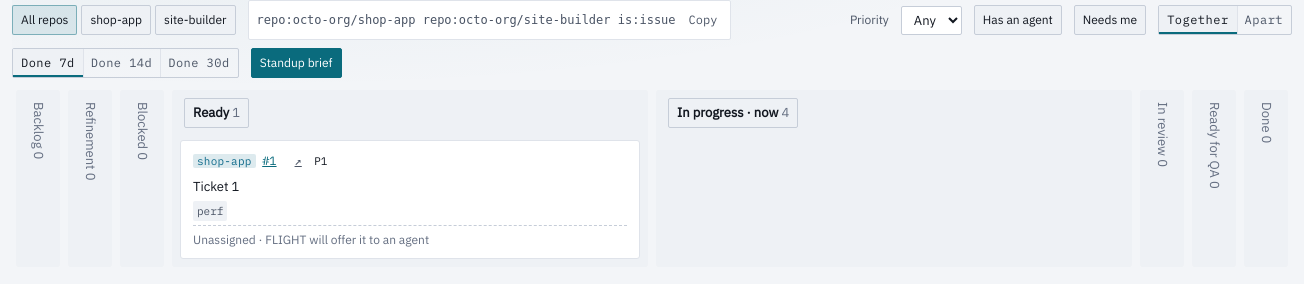
Test: at phone width › opens the first non-empty column only, and a header tap switches
The image size is (1304, 284).
Expected: the element showing "Backlog 0" is shown, x1=16 y1=90 x2=60 y2=267
Expected: the link "Ticket 1" is shown, x1=193 y1=178 x2=239 y2=195
Click the button "In progress · now 4": (733, 113) x1=668 y1=98 x2=798 y2=128
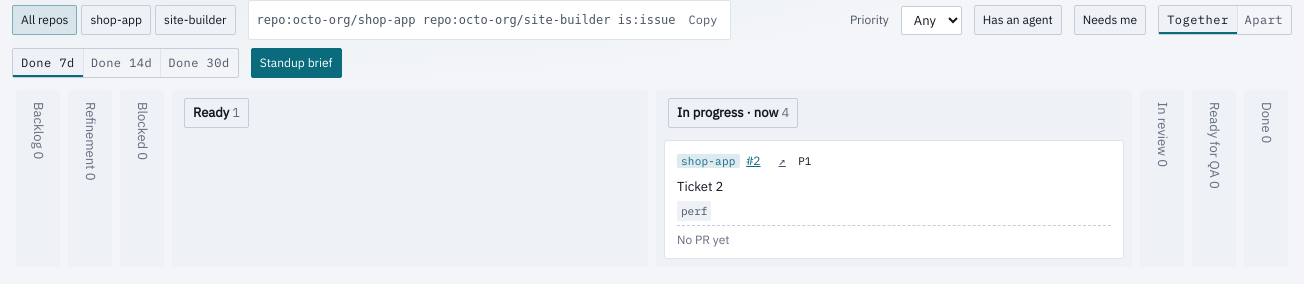
Expected: the link "Ticket 2" is shown, x1=677 y1=178 x2=723 y2=195
Expected: the link "Ticket 1" is gone
